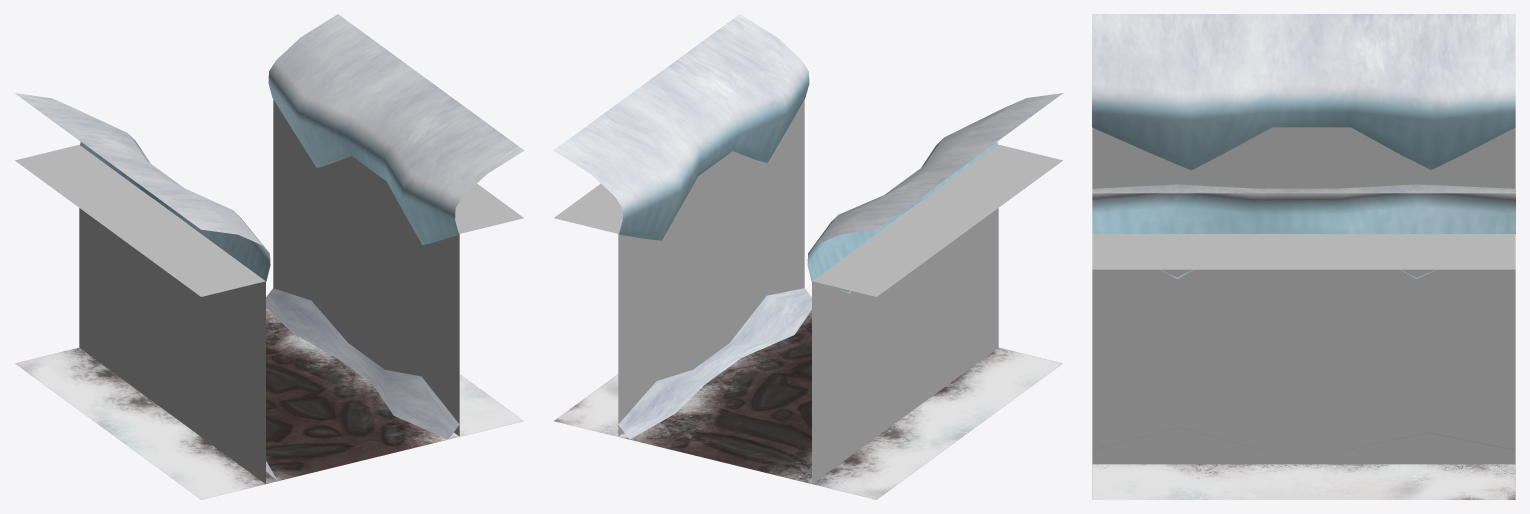
Rendered from Mod_Frozen_Tile_Corridor.fbx.
3 views of the same model, side by side, from view 1: azimuth 30°, elevation 25°; view 2: azimuth 150°, elevation 25°; view 3: azimuth 270°, elevation 25° (orthographic). The views are drawn at different scales.
Parts seen in each view (by area): view 1: polySurface10; view 2: polySurface10; view 3: polySurface10.
Part boxes in pixels (left/top/right/bottom): polySurface10: left=15, top=14, right=524, bottom=499; polySurface10: left=553, top=14, right=1062, bottom=499; polySurface10: left=1092, top=14, right=1515, bottom=499.
Bounding box in the file's own units: 100 × 79.96 × 100.
